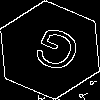G: (25, 25, 85, 83)
